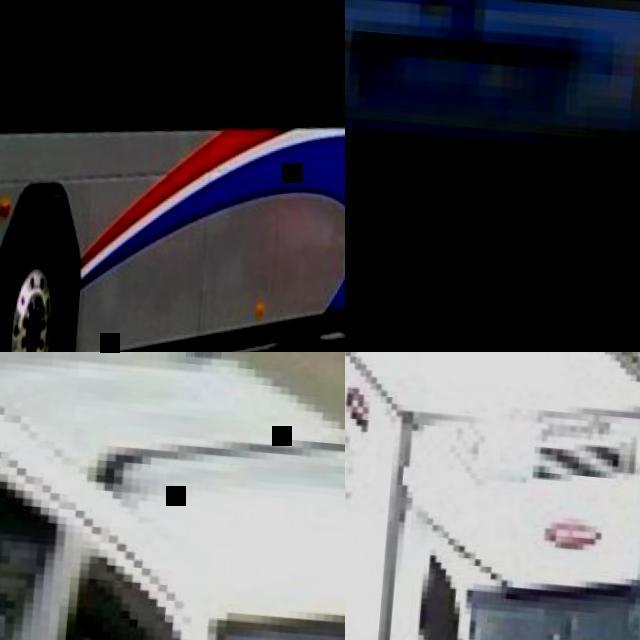car: (337, 0, 638, 327)
